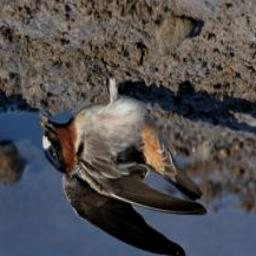Swallow: (40, 57, 208, 256)
